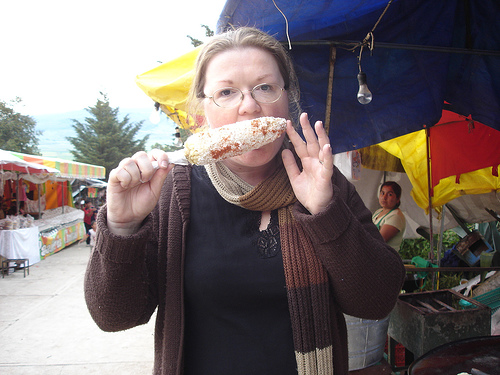corn: (182, 113, 289, 168)
